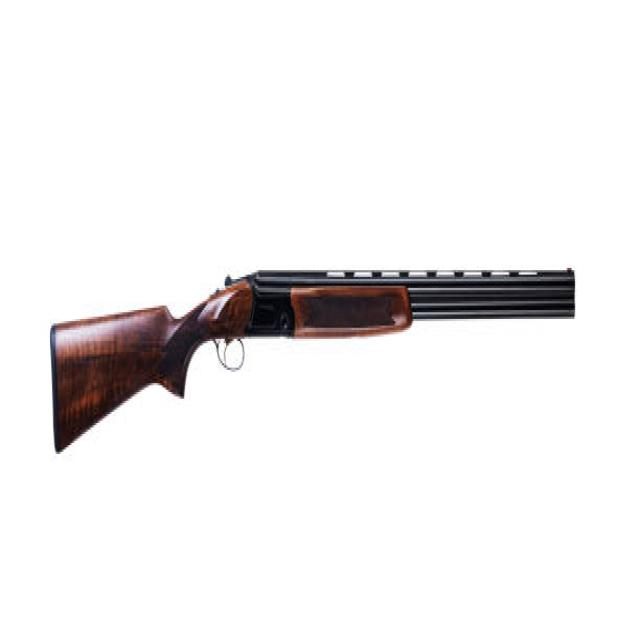rifle: (47, 254, 586, 473)
